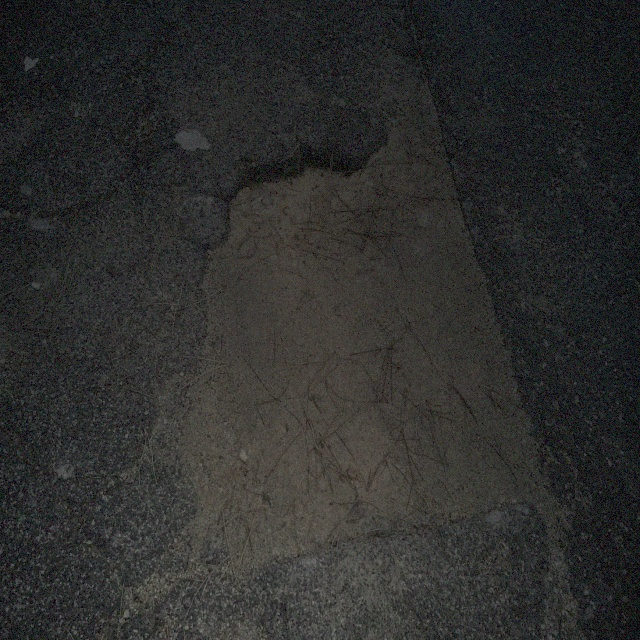pothole: (162, 109, 559, 581)
